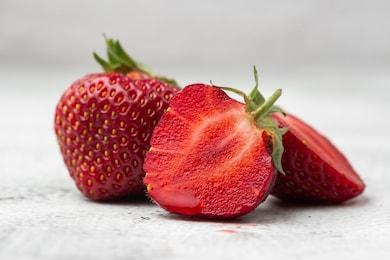Fresa: (52, 68, 186, 208)
